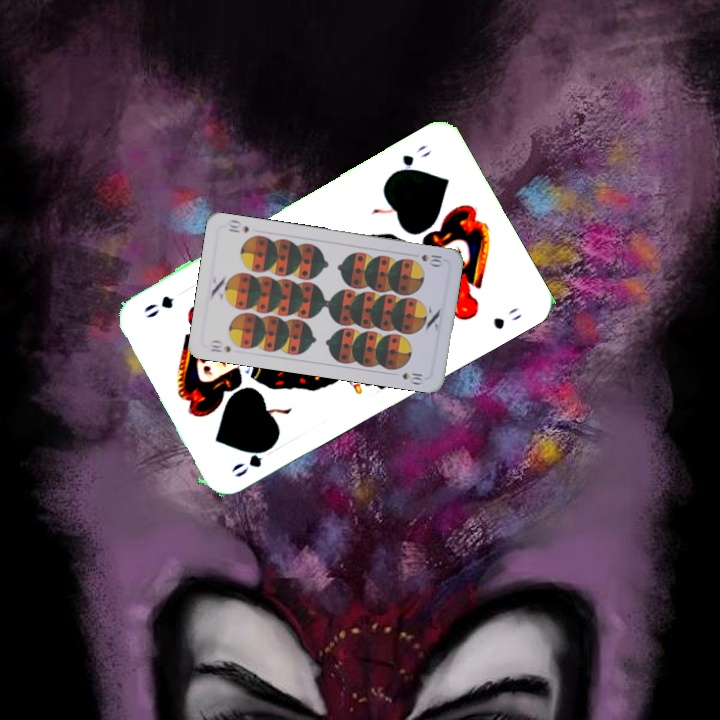GO: (386, 141, 434, 179), (227, 443, 275, 480)
S10: (206, 336, 234, 355), (417, 250, 445, 268)
